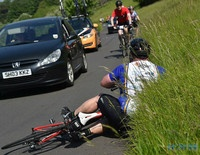falling: (65, 35, 169, 137)
